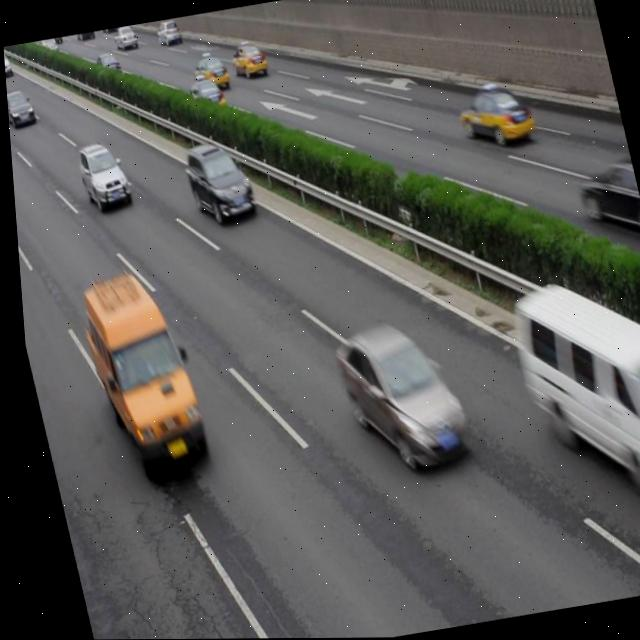car: (326, 316, 469, 477), (178, 140, 257, 226), (451, 78, 534, 149), (572, 163, 640, 238), (72, 140, 132, 213), (189, 51, 230, 93), (182, 75, 227, 113), (228, 42, 268, 79), (5, 88, 35, 129), (91, 51, 123, 81), (155, 19, 182, 46), (111, 26, 139, 52)
truck: (501, 267, 640, 517), (70, 269, 206, 473)
